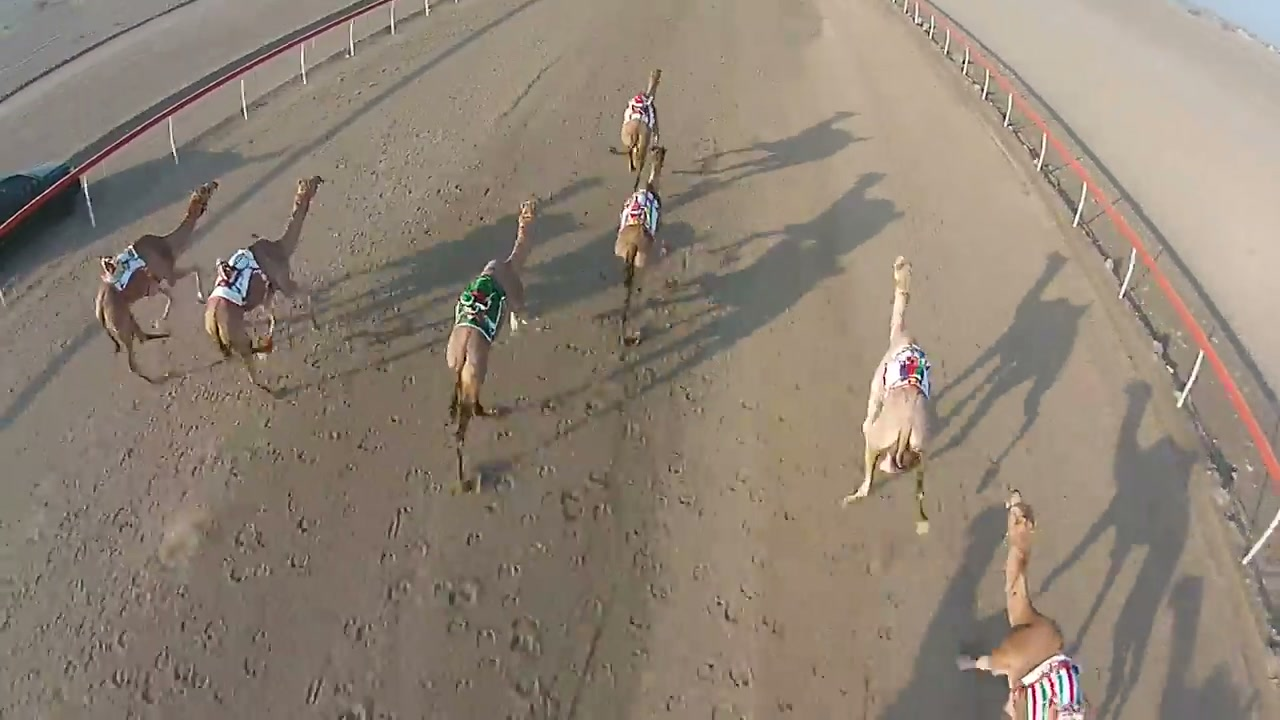animal_footprint: (28, 355, 448, 715), (351, 324, 669, 711), (648, 418, 831, 719)
